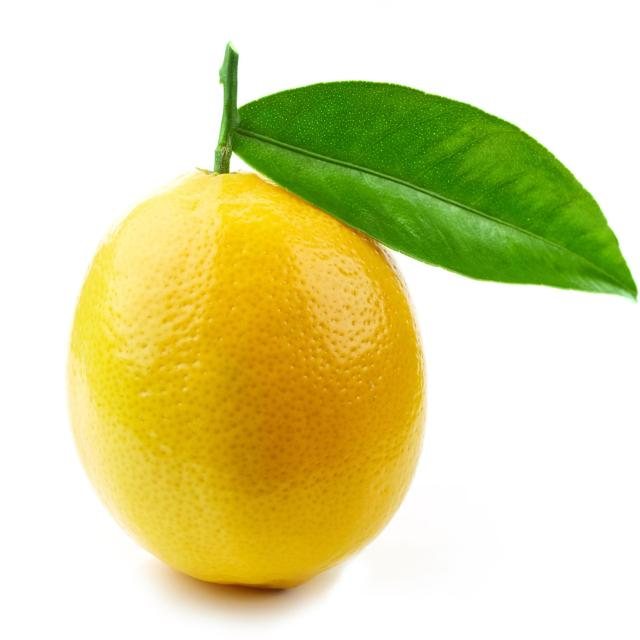lemon: (56, 32, 640, 597)
